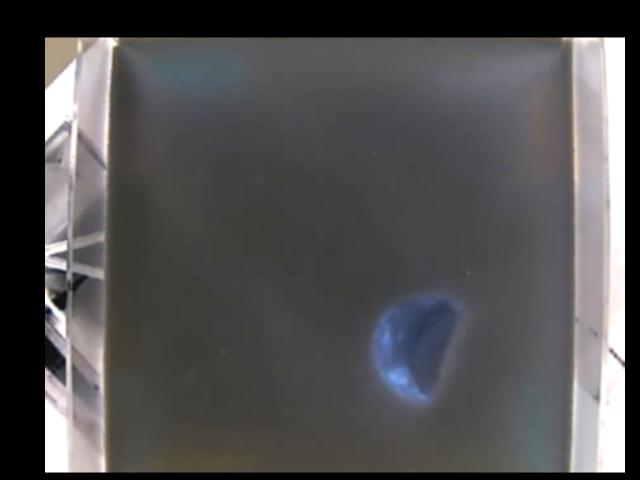Mooli: (372, 294, 460, 403)
